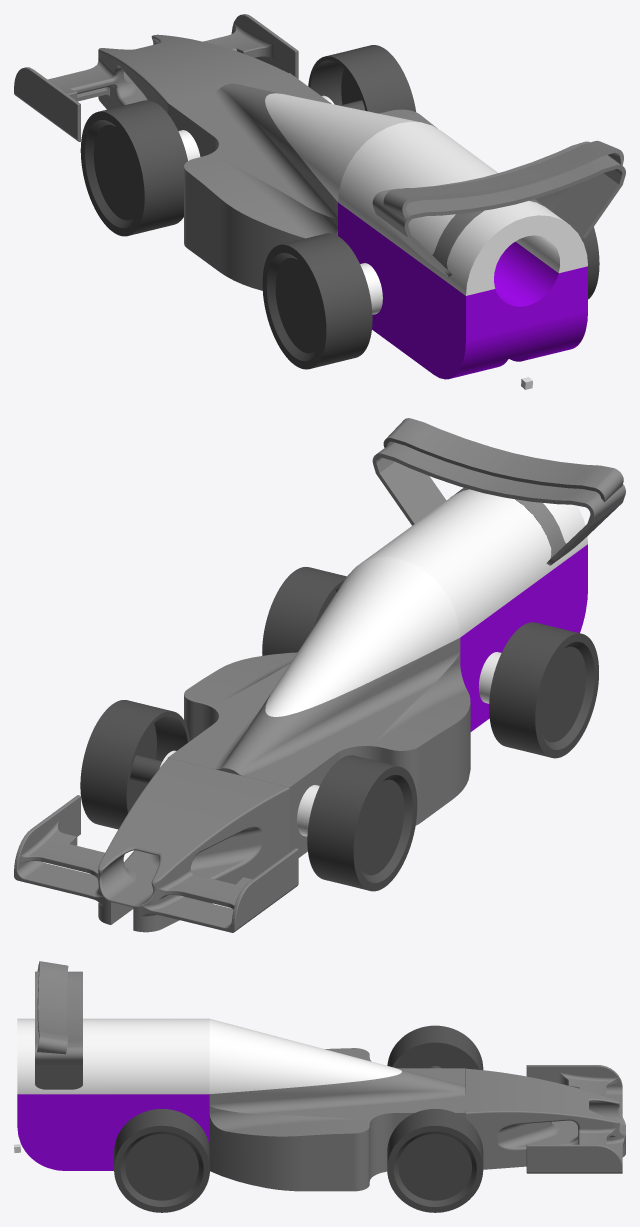
The picture shows the model from 3 angles, top to bottom: view 1: azimuth 30°, elevation 25°; view 2: azimuth 150°, elevation 25°; view 3: azimuth 270°, elevation 25°; orthographic projection. The views are drawn at different scales.
Parts seen in each view (by area): view 1: Body1.007, Body6, Body7, Body1, Body1.006, Body1.005, Alerón, Body1.004, Alerón (1), Body1.003, Body4; view 2: Body1, Body1.007, Body6, Body1.005, Body1.006, Alerón, Body1.004, Body7, Alerón (1), Body1.003; view 3: Body6, Body1.007, Body1, Body7, Body1.004, Body1.003, Alerón, Body1.005, Alerón (1).
Boxes of the visible parts, left/top/right/bottom form: Body1.007: left=265, top=93, right=587, bottom=295; Body6: left=167, top=73, right=437, bottom=290; Body7: left=338, top=202, right=587, bottom=379; Body1: left=14, top=14, right=298, bottom=141; Body1.006: left=262, top=233, right=372, bottom=369; Body1.005: left=80, top=100, right=187, bottom=236; Alerón: left=372, top=141, right=625, bottom=276; Body1.004: left=308, top=45, right=415, bottom=113; Alerón (1): left=383, top=140, right=623, bottom=218; Body1.003: left=535, top=187, right=599, bottom=299; Body4: left=360, top=263, right=382, bottom=314; Body1: left=14, top=758, right=298, bottom=932; Body1.007: left=265, top=489, right=587, bottom=716; Body6: left=168, top=638, right=470, bottom=857; Body1.005: left=307, top=755, right=417, bottom=891; Body1.006: left=489, top=622, right=598, bottom=758; Alerón: left=372, top=442, right=625, bottom=565; Body1.004: left=80, top=700, right=189, bottom=829; Body7: left=460, top=544, right=587, bottom=731; Alerón (1): left=383, top=418, right=623, bottom=501; Body1.003: left=262, top=567, right=346, bottom=655; Body6: left=209, top=1048, right=465, bottom=1191; Body1.007: left=17, top=1018, right=401, bottom=1094; Body1: left=466, top=1065, right=625, bottom=1173; Body7: left=17, top=1094, right=209, bottom=1170; Body1.004: left=387, top=1109, right=483, bottom=1212; Body1.003: left=114, top=1109, right=209, bottom=1212; Alerón: left=35, top=971, right=82, bottom=1089; Body1.005: left=387, top=1025, right=483, bottom=1093; Alerón (1): left=37, top=961, right=68, bottom=1054.
Bounding box in the file's own units: 19.21 × 14.64 × 49.6.
